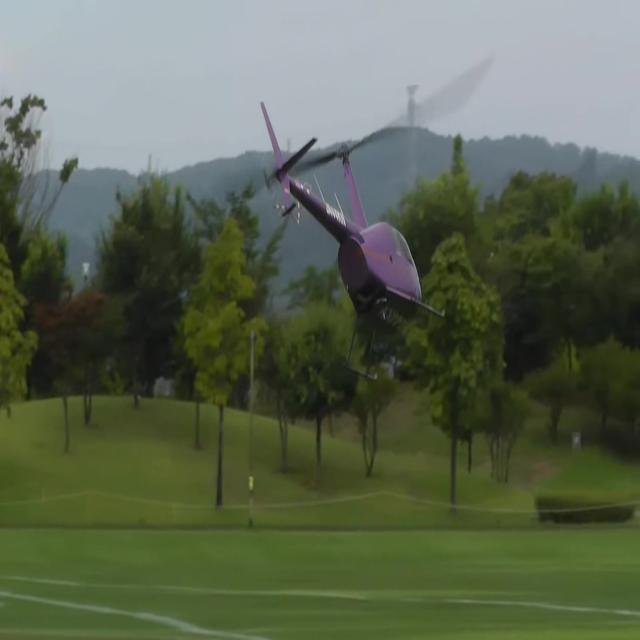CIV_HELO: (258, 99, 446, 384)
